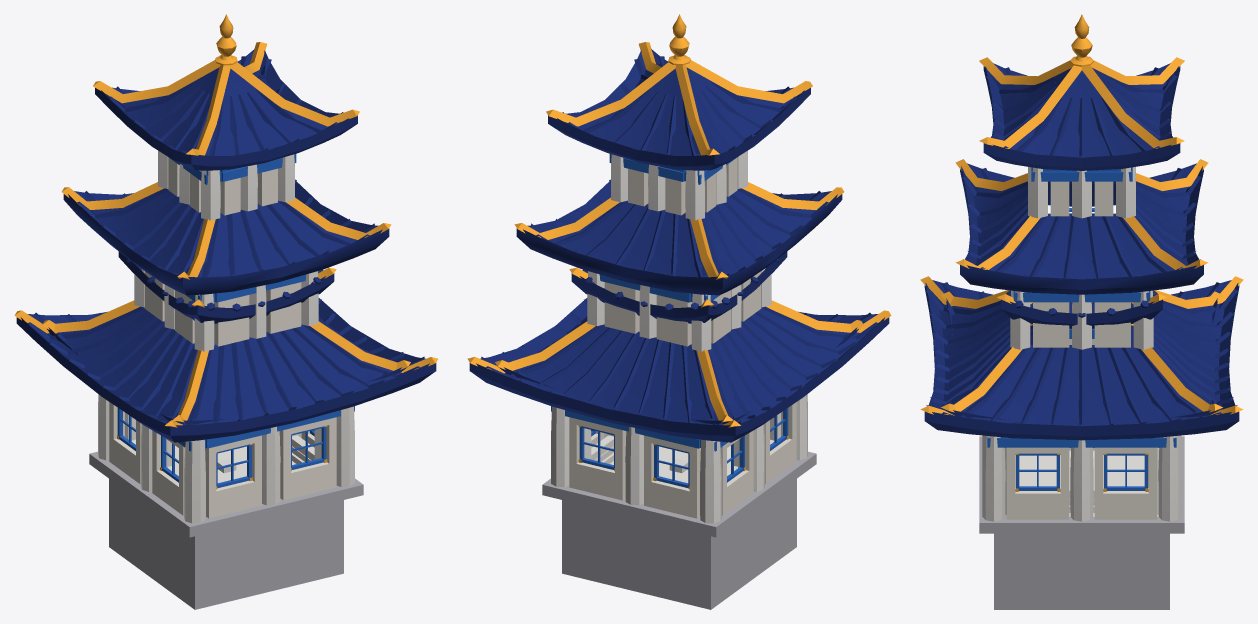
The model's file is Orthodox_Modules.fbx.
3 renders of one model, left to right at view 1: azimuth 30°, elevation 25°; view 2: azimuth 150°, elevation 25°; view 3: azimuth 270°, elevation 25°, orthographic. The views are drawn at different scales.
Visible parts, largest first — view 1: Orthodox_Tower__Tile, Orthodox_GatePavilion__Granite, Orthodox_Tower__Plaster, Orthodox_Tower__Marble, Orthodox_Tower__Gold, Orthodox_Tower__Azure, Orthodox_Tower__Granite, Orthodox_GatePavilion__Tile, Orthodox_GatePavilion__Marble; view 2: Orthodox_Tower__Tile, Orthodox_GatePavilion__Granite, Orthodox_Tower__Plaster, Orthodox_Tower__Marble, Orthodox_Tower__Gold, Orthodox_Tower__Azure, Orthodox_Tower__Granite, Orthodox_GatePavilion__Tile, Orthodox_GatePavilion__Marble; view 3: Orthodox_Tower__Tile, Orthodox_GatePavilion__Granite, Orthodox_Tower__Gold, Orthodox_Tower__Marble, Orthodox_Tower__Plaster, Orthodox_Tower__Azure, Orthodox_Tower__Granite, Orthodox_GatePavilion__Tile, Orthodox_GatePavilion__Marble, Orthodox_GatePavilion__Gold.
Boxes of the visible parts, x1,y1,x2,y2 form: Orthodox_Tower__Tile: (16, 49, 436, 442); Orthodox_GatePavilion__Granite: (109, 479, 343, 609); Orthodox_Tower__Plaster: (109, 157, 336, 518); Orthodox_Tower__Marble: (98, 150, 354, 523); Orthodox_Tower__Gold: (14, 14, 438, 489); Orthodox_Tower__Azure: (117, 154, 354, 488); Orthodox_Tower__Granite: (89, 451, 363, 537); Orthodox_GatePavilion__Tile: (47, 251, 408, 424); Orthodox_GatePavilion__Marble: (125, 331, 321, 482); Orthodox_Tower__Tile: (469, 49, 889, 442); Orthodox_GatePavilion__Granite: (562, 479, 796, 609); Orthodox_Tower__Plaster: (569, 157, 796, 518); Orthodox_Tower__Marble: (551, 150, 807, 523); Orthodox_Tower__Gold: (467, 14, 891, 489); Orthodox_Tower__Azure: (551, 154, 788, 488); Orthodox_Tower__Granite: (542, 445, 816, 537); Orthodox_GatePavilion__Tile: (497, 251, 858, 424); Orthodox_GatePavilion__Marble: (584, 331, 780, 482); Orthodox_Tower__Tile: (924, 63, 1239, 440); Orthodox_GatePavilion__Granite: (994, 533, 1169, 609); Orthodox_Tower__Gold: (920, 14, 1243, 491); Orthodox_Tower__Marble: (982, 167, 1181, 521); Orthodox_Tower__Plaster: (1006, 181, 1157, 519); Orthodox_Tower__Azure: (987, 167, 1176, 490); Orthodox_Tower__Granite: (979, 436, 1184, 533); Orthodox_GatePavilion__Tile: (945, 290, 1218, 419); Orthodox_GatePavilion__Marble: (1004, 447, 1159, 516); Orthodox_GatePavilion__Gold: (941, 291, 1222, 412).
Size of the model in its own units: 22.05 by 42 by 22.05.
